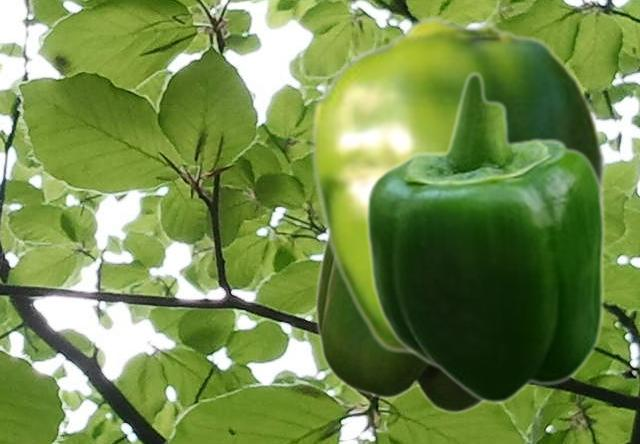bell_pepper: (310, 15, 606, 354), (363, 70, 605, 405), (314, 234, 482, 413)
